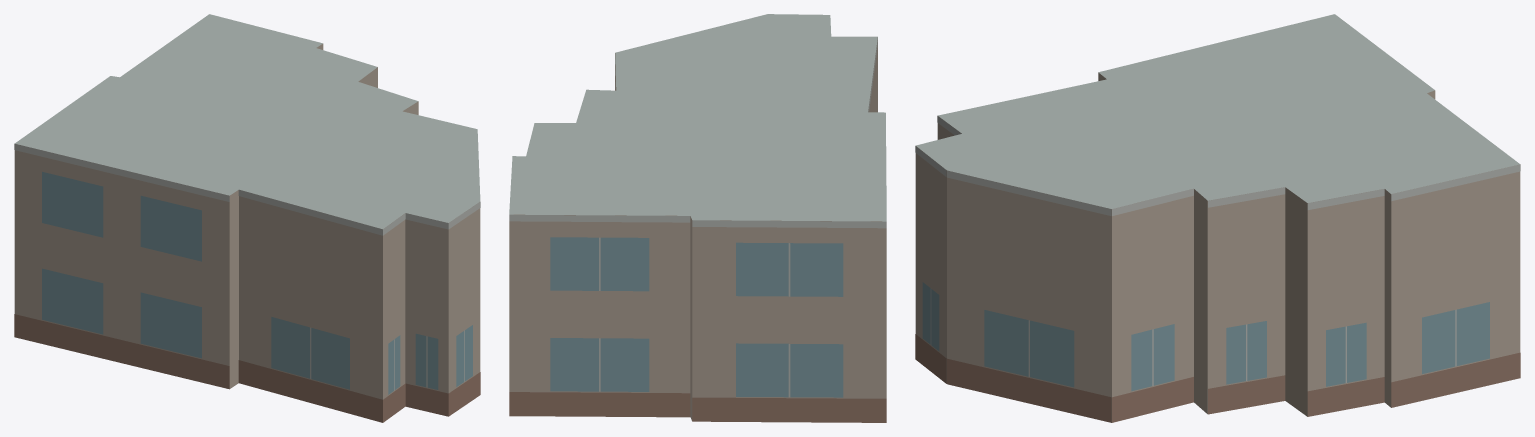
The model's file is survey-upis-32513153.glb.
The picture shows the model from 3 angles, left to right: view 1: azimuth 30°, elevation 25°; view 2: azimuth 150°, elevation 25°; view 3: azimuth 270°, elevation 25°; orthographic projection. The views are drawn at different scales.
Visible parts, largest first — view 1: survey-upis-32513153.tmp; view 2: survey-upis-32513153.tmp; view 3: survey-upis-32513153.tmp.
Part boxes in pixels (x1,y1,x2,y2): survey-upis-32513153.tmp: (14,14,480,422); survey-upis-32513153.tmp: (509,14,886,422); survey-upis-32513153.tmp: (915,14,1520,422).
Bounding box in the file's own units: 14.3 × 7.3 × 18.74.
